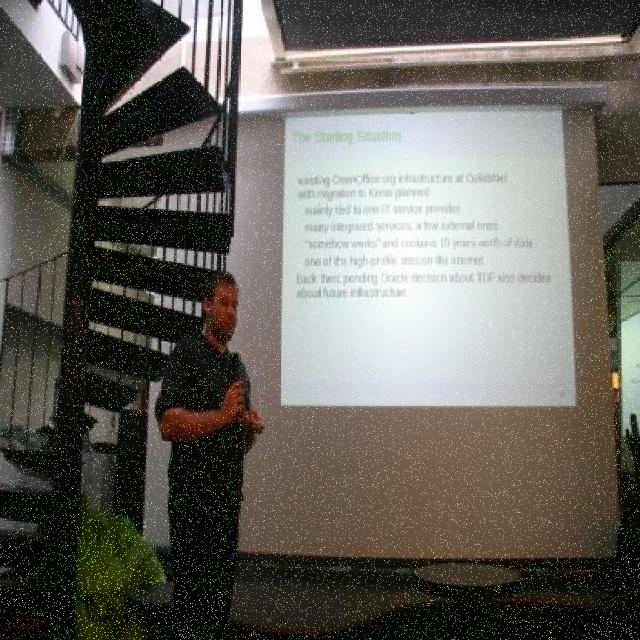stair: (0, 0, 234, 640)
